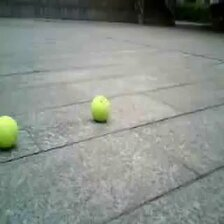tennis: (1, 115, 19, 149), (91, 94, 109, 121)
